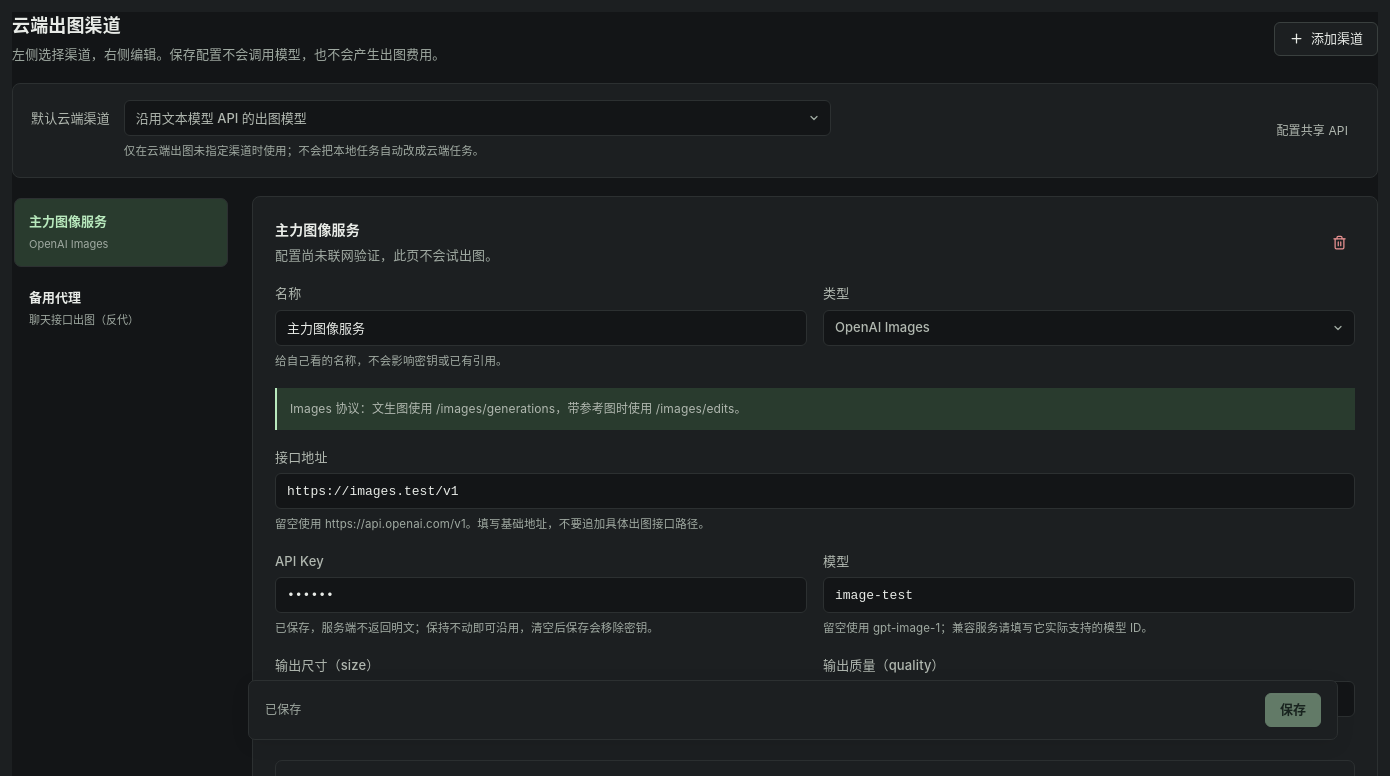
it: cloud channel configuration › chat channels explain inheritance and do not advertise unsupported size or quality
Click the button "备用代理 聊天接口出图（反代）".
click(121, 308)  # box [14,274,228,343]
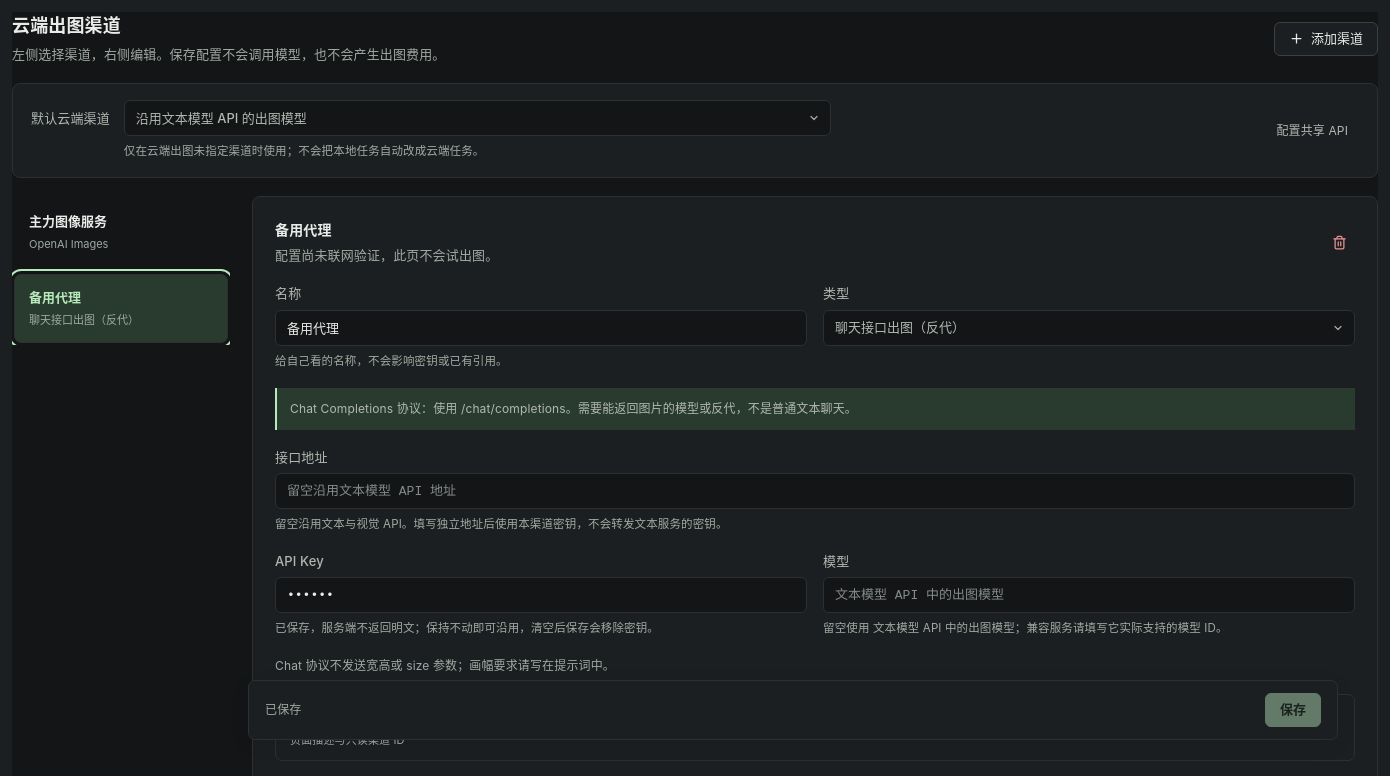
Expected: the field showing "备用代理" is shown, [275,310,807,346]
Expected: the text labelled "输出尺寸" is gone
Expected: the text labelled "输出质量" is gone
